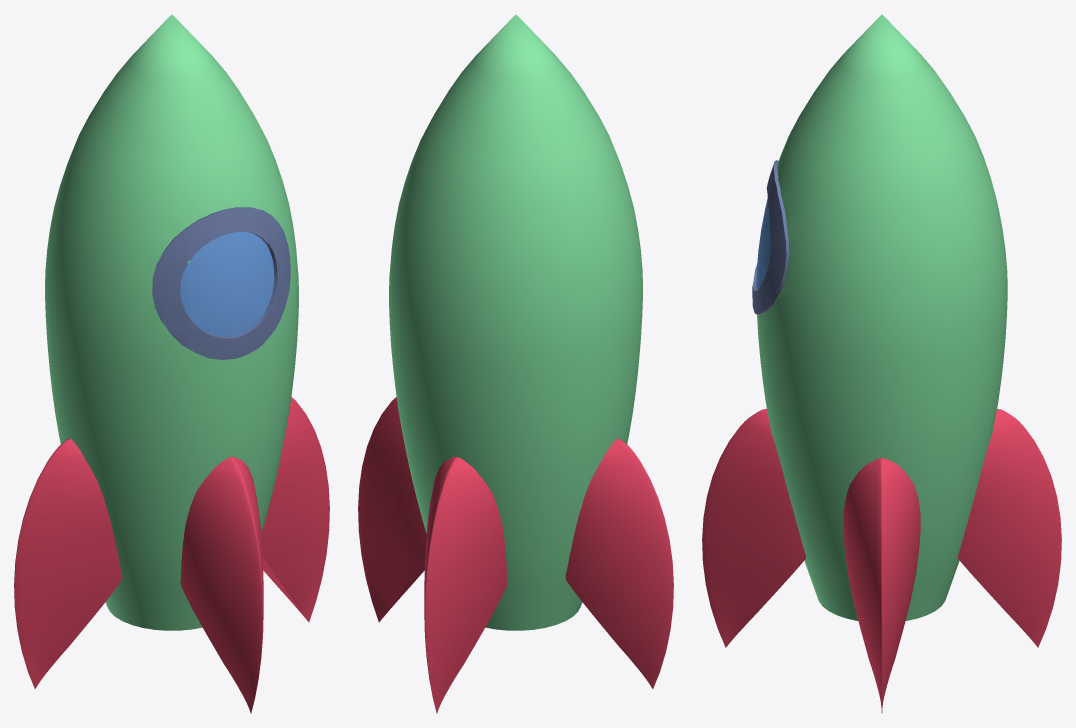
The model's file is littleRocket.glb.
3 views of the same model, side by side, from view 1: azimuth 30°, elevation 25°; view 2: azimuth 150°, elevation 25°; view 3: azimuth 270°, elevation 25° (orthographic).
Parts seen in each view (by area): view 1: Cylinder.002, window; view 2: Cylinder.002; view 3: Cylinder.002, window.
Part boxes in pixels (x1,y1,x2,y2): Cylinder.002: [14, 14, 329, 713]; window: [180, 231, 274, 336]; Cylinder.002: [358, 14, 673, 713]; Cylinder.002: [702, 14, 1061, 712]; window: [756, 199, 770, 289].
Bounding box in the file's own units: 0.8667 × 1.69 × 0.8667.
